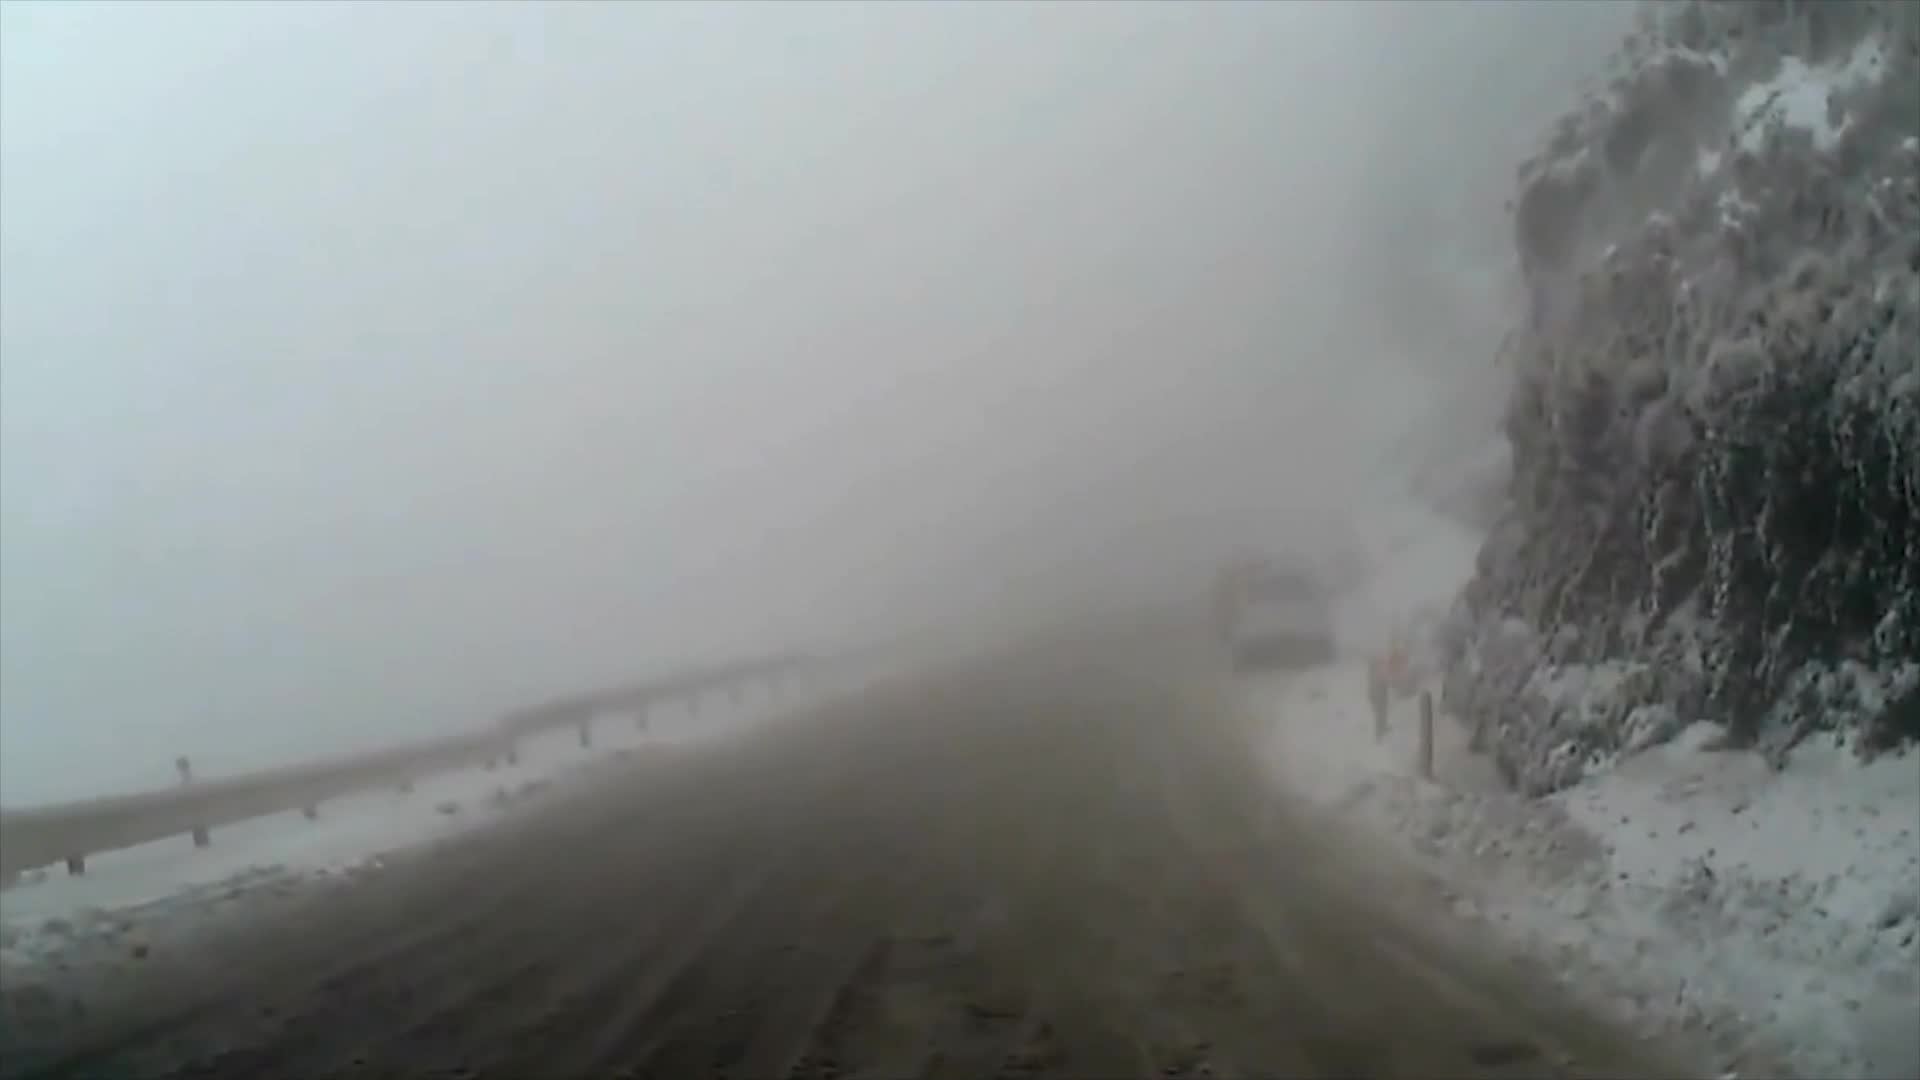vehicle: (1222, 562, 1340, 670)
